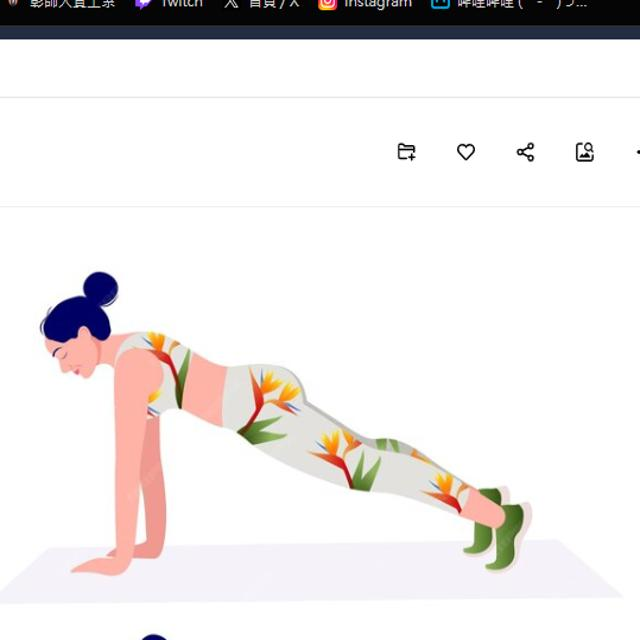Plank_Pose: (27, 260, 536, 601)
